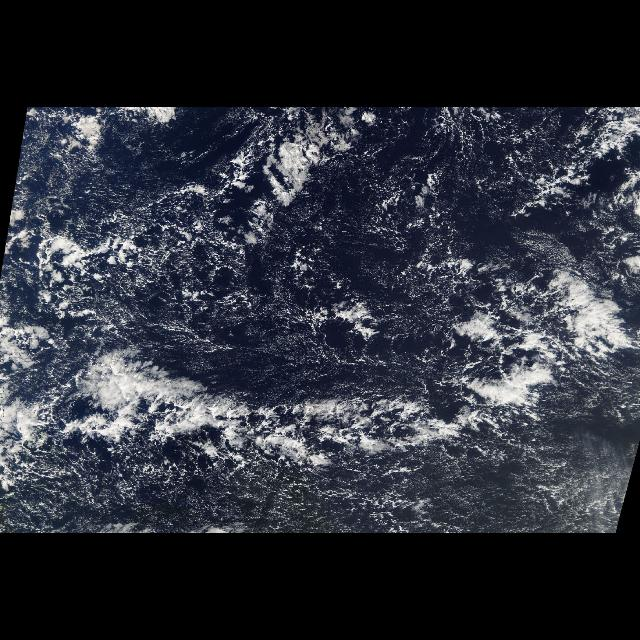Fish: (78, 362, 510, 470), (420, 246, 640, 362)
Gravel: (43, 130, 483, 392)
Sugar: (1, 383, 640, 533), (328, 160, 418, 328), (440, 128, 538, 235)
